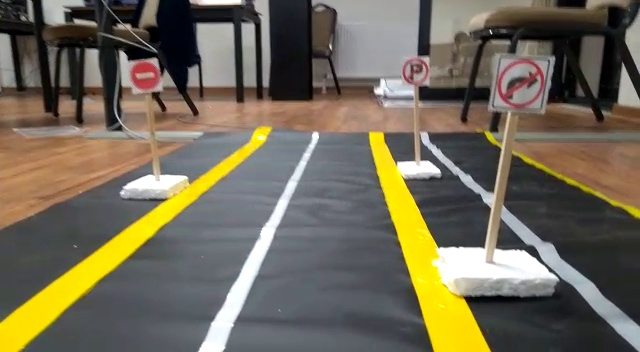girisi_olmayan_yol: (129, 61, 163, 93)
park_yapilmaz: (402, 55, 429, 86)
saga_donulmez: (492, 57, 548, 110)
